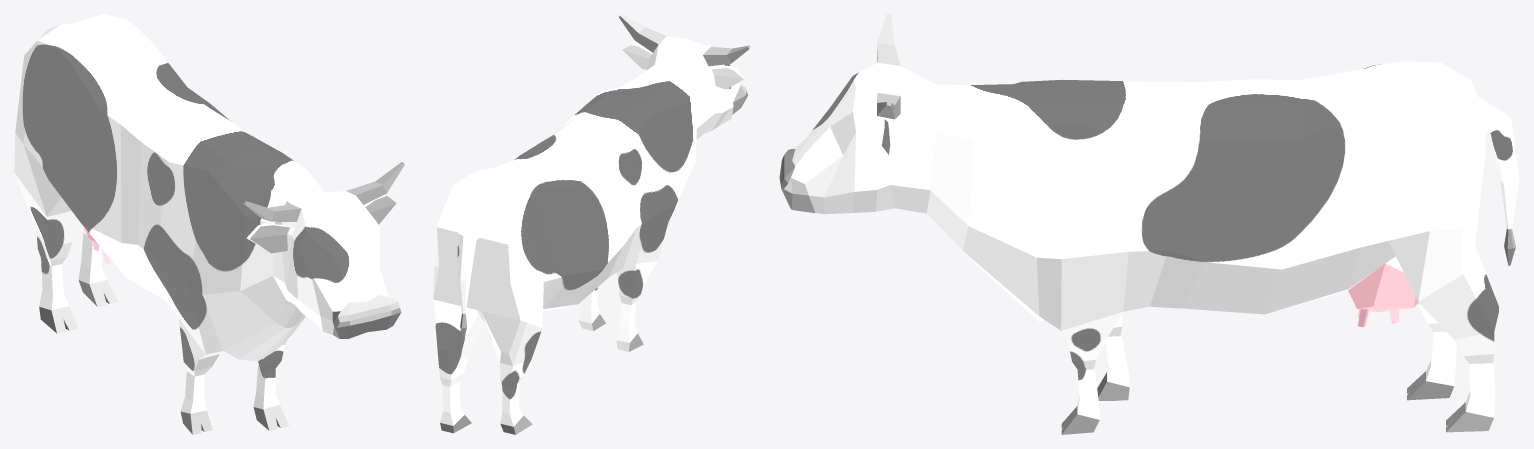
File: Cow.glb
3 views of the same model, side by side, from view 1: azimuth 30°, elevation 25°; view 2: azimuth 150°, elevation 25°; view 3: azimuth 270°, elevation 25° (orthographic). The views are drawn at different scales.
Parts seen in each view (by area): view 1: Plane_Plane.002; view 2: Plane_Plane.002; view 3: Plane_Plane.002.
Boxes of the visible parts, x1,y1,x2,y2 form: Plane_Plane.002: [14, 14, 404, 434]; Plane_Plane.002: [433, 14, 750, 434]; Plane_Plane.002: [779, 14, 1519, 434].
Size of the model in its own units: 1.86 by 3.43 by 6.5.
Materials: 5 (5 with a texture image).
